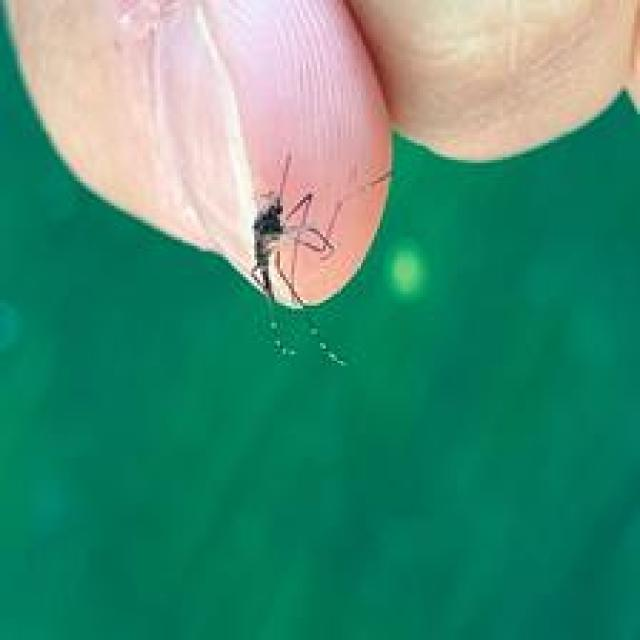Aedes albopictus: (247, 150, 336, 310)
